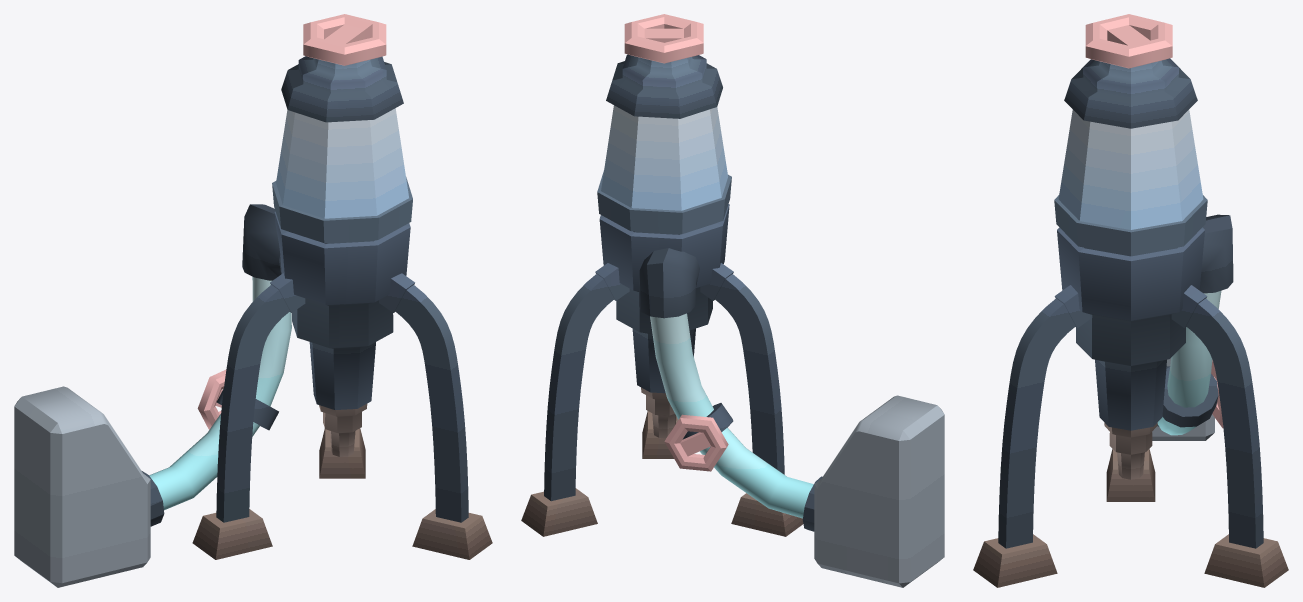
Rendered from Terraformer.FBX.
The picture shows the model from 3 angles, left to right: view 1: azimuth 30°, elevation 25°; view 2: azimuth 150°, elevation 25°; view 3: azimuth 270°, elevation 25°; orthographic projection. The views are drawn at different scales.
Parts seen in each view (by area): view 1: Terraformer, TerraformerWindow; view 2: Terraformer, TerraformerWindow; view 3: Terraformer, TerraformerWindow.
Part boxes in pixels (x1=…): Terraformer: x1=14, y1=14, x2=492, y2=587; TerraformerWindow: x1=276, y1=108, x2=408, y2=218; Terraformer: x1=521, y1=14, x2=944, y2=587; TerraformerWindow: x1=601, y1=105, x2=728, y2=210; Terraformer: x1=973, y1=14, x2=1288, y2=587; TerraformerWindow: x1=1058, y1=109, x2=1203, y2=229.
Bounding box in the file's own units: 4453 × 5469 × 3052.
Materials: 1 (1 with a texture image).
